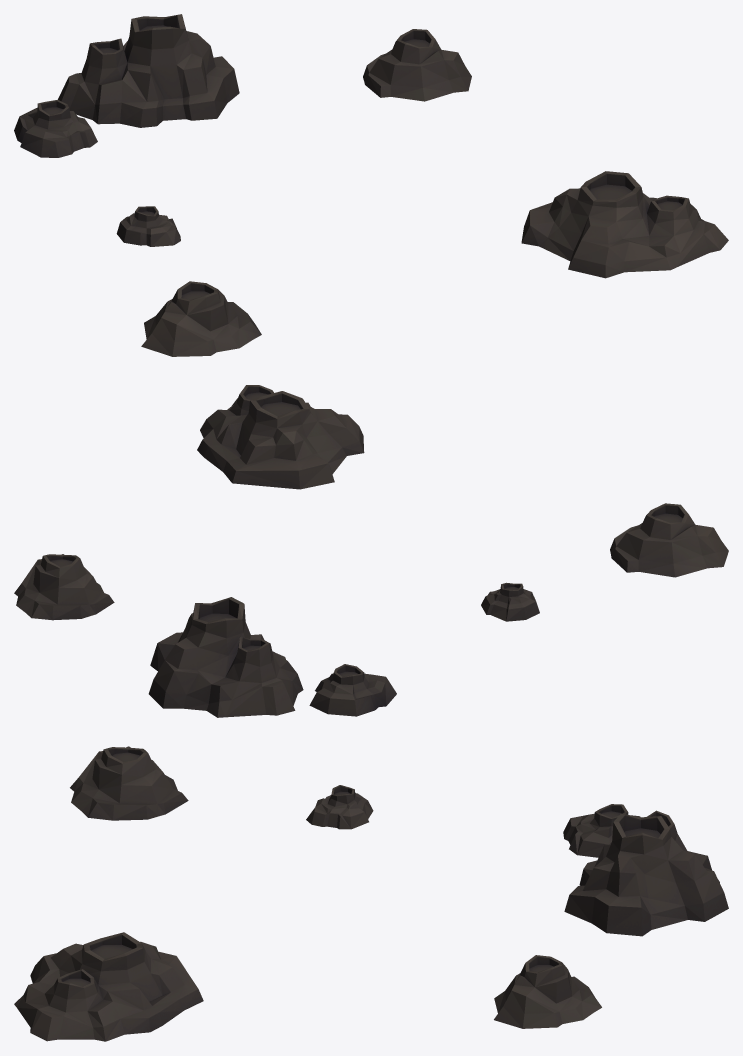
Rendered from Ground_03.FBX.
3 views of the same model, one above another, from view 1: azimuth 30°, elevation 25°; view 2: azimuth 150°, elevation 25°; view 3: azimuth 270°, elevation 25° (orthographic). The views are drawn at different scales.
Parts seen in each view (by area): view 1: Ground_03; view 2: Ground_03; view 3: Ground_03.
Boxes of the visible parts, bbox=[...] form: Ground_03: bbox=[14, 14, 728, 356]; Ground_03: bbox=[14, 385, 728, 717]; Ground_03: bbox=[14, 746, 728, 1041].
Bounding box in the file's own units: 16.37 × 2.2 × 17.96.
